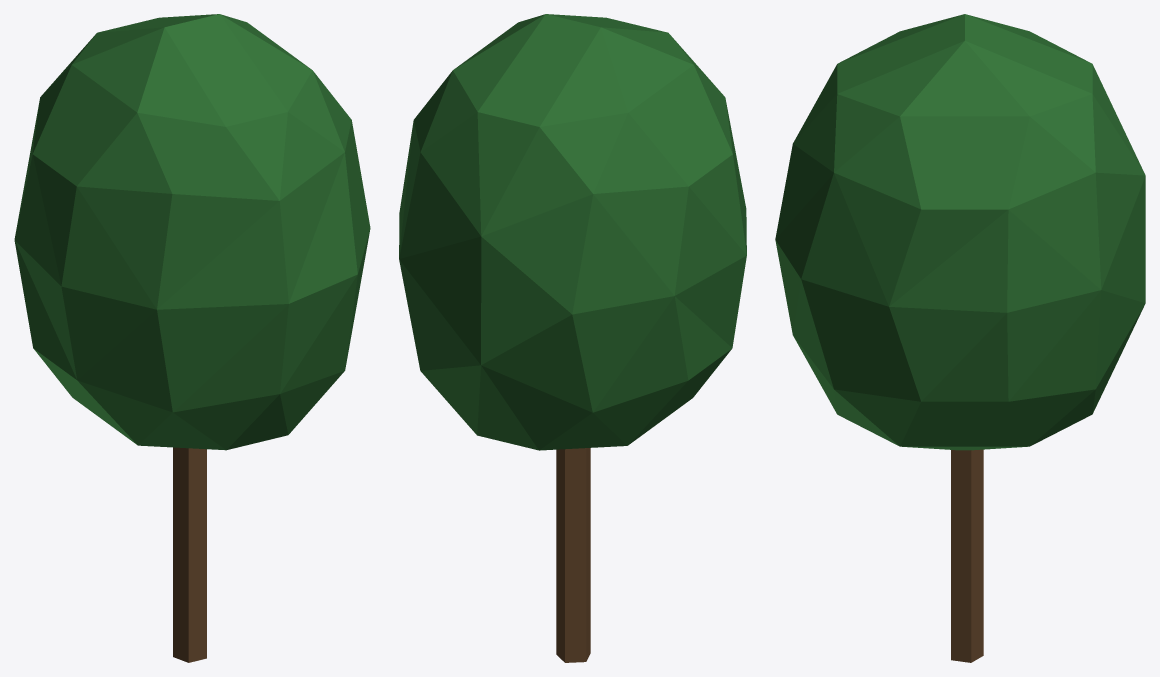
The model's file is tree-round.glb.
The picture shows the model from 3 angles, left to right: view 1: azimuth 30°, elevation 25°; view 2: azimuth 150°, elevation 25°; view 3: azimuth 270°, elevation 25°; orthographic projection.
Visible parts, largest first — view 1: tree-round; view 2: tree-round; view 3: tree-round.
Part boxes in pixels (<box>): tree-round: <box>14,14,370,662</box>; tree-round: <box>399,14,746,662</box>; tree-round: <box>775,14,1145,662</box>.
Bounding box in the file's own units: 2.54 × 5.06 × 2.7.
